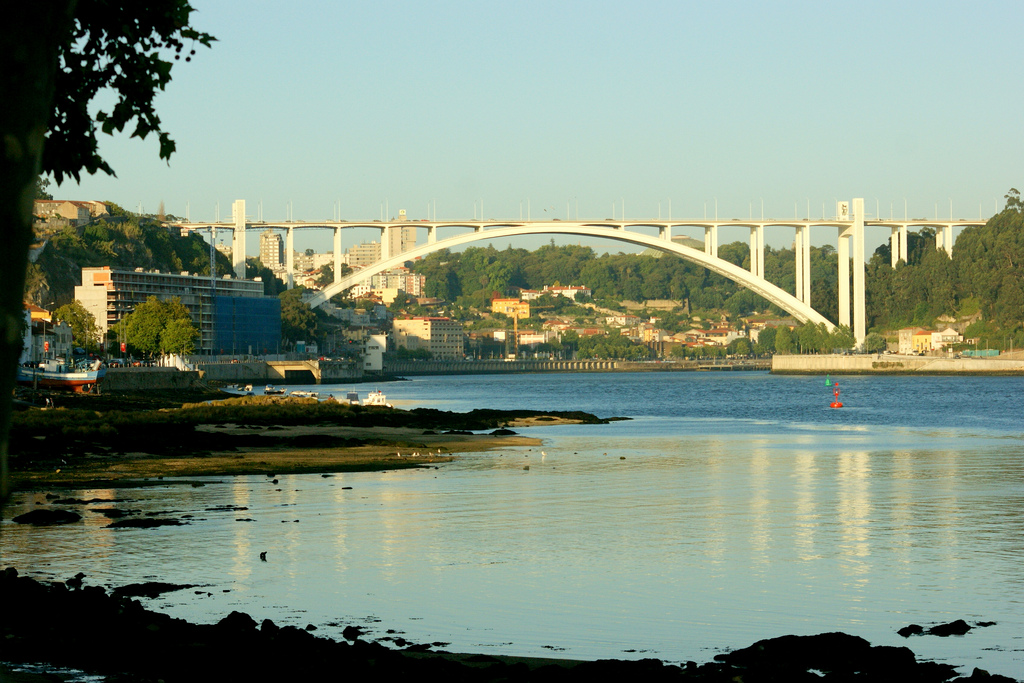arrabida: (176, 195, 989, 355)
